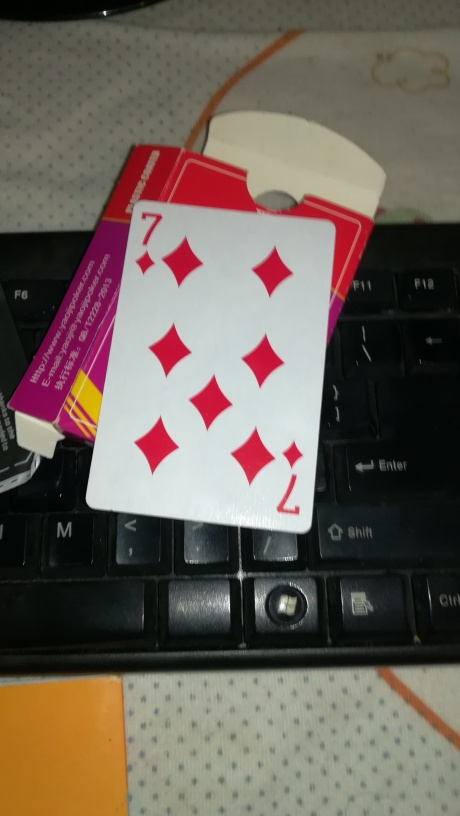fk 7: (85, 198, 334, 534)
